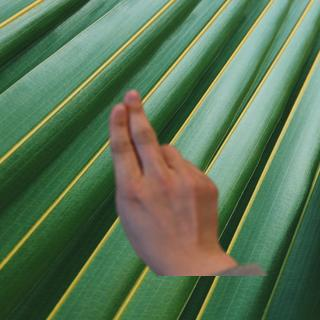DHAVE: (101, 85, 225, 269)
